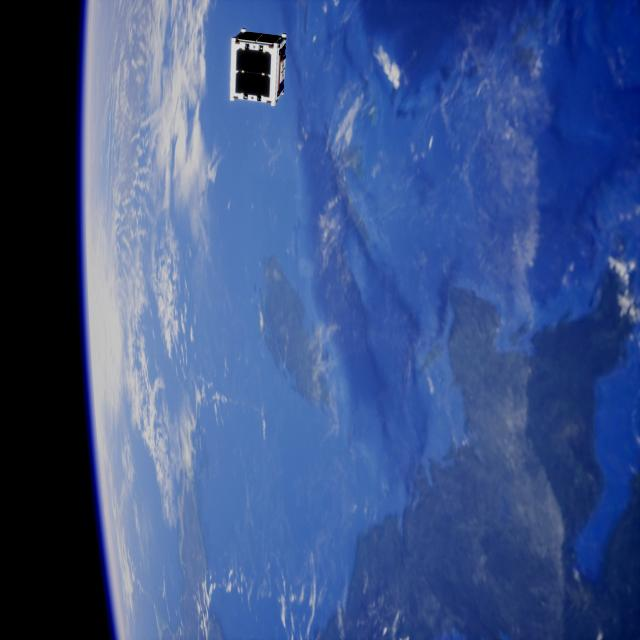medium_debris: (228, 31, 296, 108)
